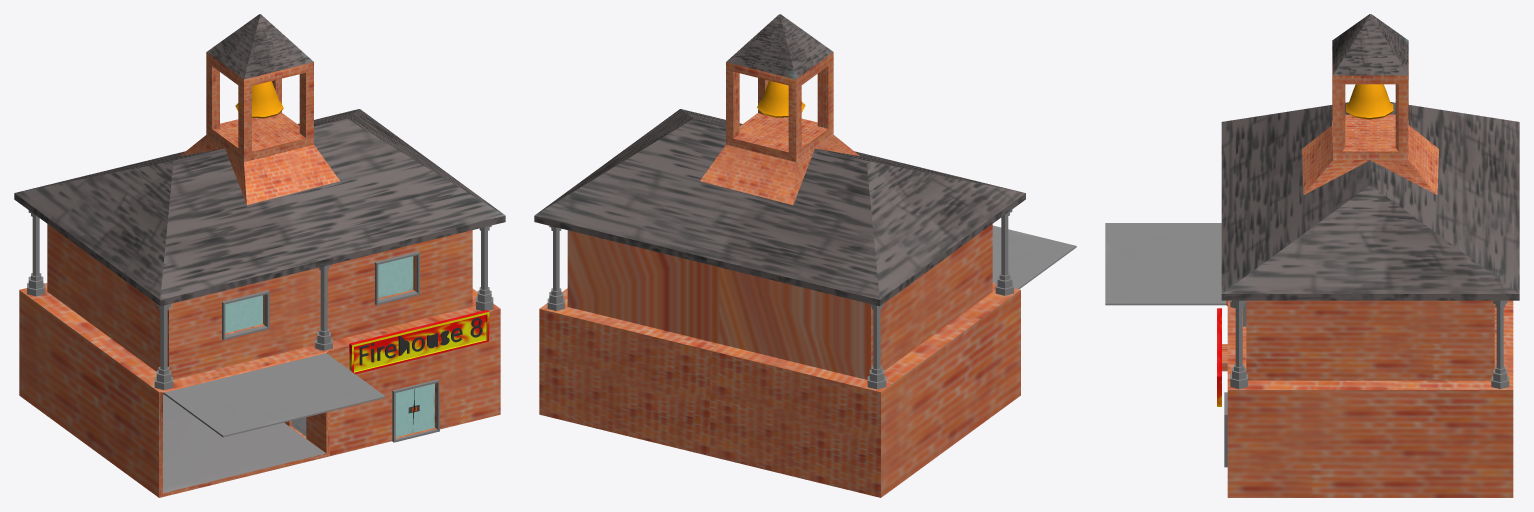
File: Firehouse 8.fbx
The picture shows the model from 3 angles, left to right: view 1: azimuth 30°, elevation 25°; view 2: azimuth 150°, elevation 25°; view 3: azimuth 270°, elevation 25°; orthographic projection. The views are drawn at different scales.
Visible parts, largest first — view 1: Fiyahouz, Cylinder_3, Sphere; view 2: Fiyahouz, Cylinder_3, Sphere; view 3: Fiyahouz, Cylinder_3, Sphere.
Part boxes in pixels (x1=…): Fiyahouz: x1=14, y1=14, x2=505, y2=497; Cylinder_3: x1=27, y1=210, x2=493, y2=389; Sphere: x1=235, y1=81, x2=283, y2=118; Fiyahouz: x1=534, y1=14, x2=1076, y2=497; Cylinder_3: x1=547, y1=210, x2=1013, y2=389; Sphere: x1=757, y1=80, x2=805, y2=117; Fiyahouz: x1=1105, y1=14, x2=1519, y2=497; Cylinder_3: x1=1230, y1=300, x2=1509, y2=388; Sphere: x1=1346, y1=84, x2=1393, y2=119.
Size of the model in its own units: 1404 by 1519 by 1427.
Materials: 5 (1 with a texture image).
